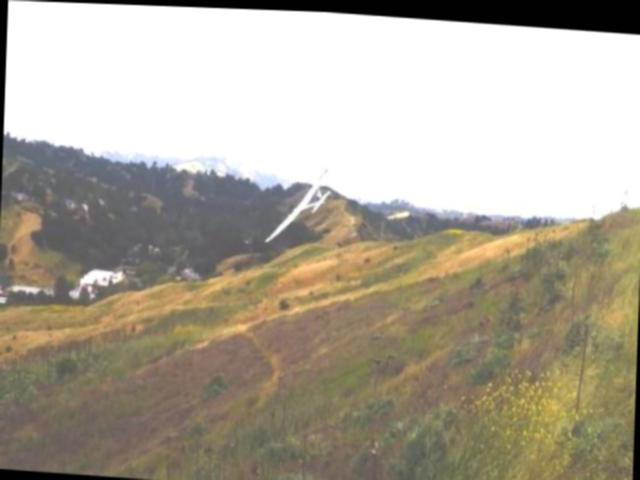iha: (264, 160, 332, 244)
